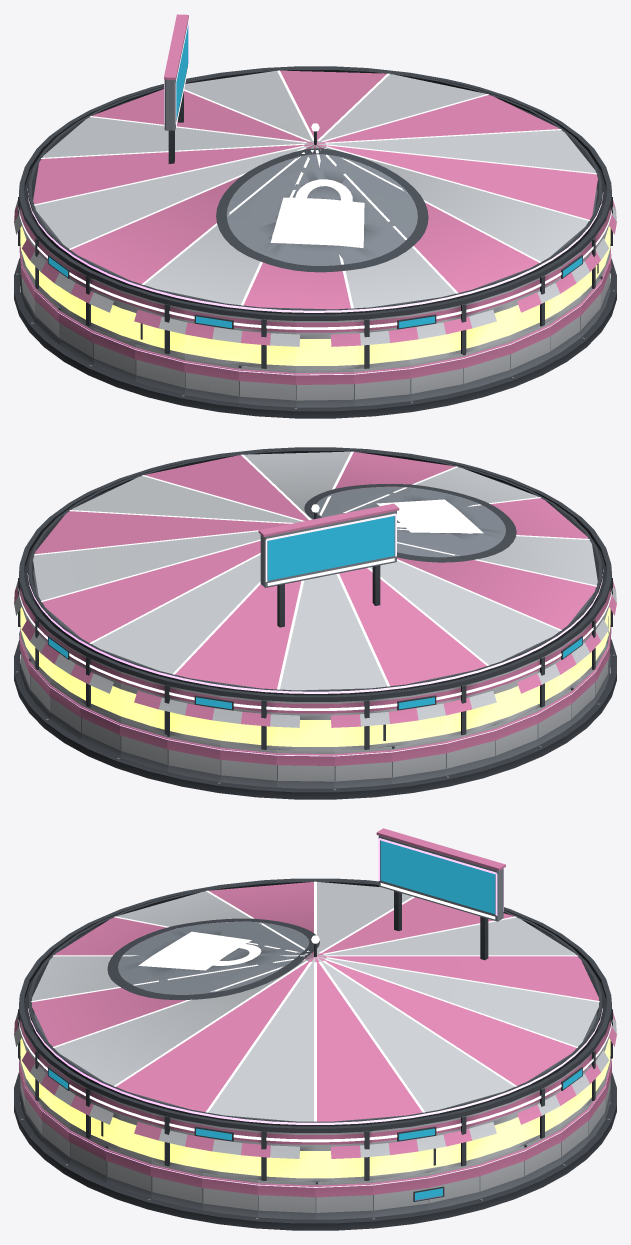
File: retail_l.glb
The picture shows the model from 3 angles, top to bottom: view 1: azimuth 30°, elevation 25°; view 2: azimuth 150°, elevation 25°; view 3: azimuth 270°, elevation 25°; orthographic projection.
Parts seen in each view (by area): view 1: Roof, PorchTop, Base, Upper_21, Wall_21, Wall_20, Wall_22, Upper_20, Wall_19, Wall_23, Upper_22, Wall_18 (+17 smaller); view 2: Roof, PorchTop, Base, Upper_10, Wall_10, Wall_11, Wall_09, Wall_12, Upper_11, Wall_08, Upper_09, Wall_13 (+18 smaller); view 3: Roof, PorchTop, Base, Upper_00, Upper_31, Wall_00, Wall_31, Wall_30, Wall_01, Wall_29, Upper_03, Upper_28 (+19 smaller).
Part boxes in pixels (x1,y1,x2,y2): Roof: (14,14,616,346); PorchTop: (18,21,612,329); Base: (14,258,616,418); Upper_21: (296,320,353,369); Wall_21: (296,368,354,407); Wall_20: (238,365,296,407); Wall_22: (354,363,410,406); Upper_20: (239,316,296,369); Wall_19: (184,357,238,403); Wall_23: (410,354,463,400); Upper_22: (354,314,410,368); Wall_18: (135,344,184,394); Roof: (14,447,616,727); PorchTop: (18,451,612,710); Base: (14,639,616,799); Upper_10: (277,701,334,750); Wall_10: (276,749,334,788); Wall_11: (334,746,392,788); Wall_09: (220,744,276,787); Wall_12: (392,738,446,784); Upper_11: (334,697,391,750); Wall_08: (167,735,220,781); Upper_09: (220,695,276,749); Wall_13: (446,725,495,775); Roof: (14,828,616,1158); PorchTop: (18,838,612,1142); Base: (14,1072,616,1230); Upper_00: (315,1131,372,1182); Upper_31: (258,1131,315,1182); Wall_00: (315,1179,373,1219); Wall_31: (257,1179,315,1219); Wall_30: (202,1172,257,1217); Wall_01: (373,1172,428,1217); Wall_29: (150,1161,202,1209); Upper_03: (479,1097,523,1161); Upper_28: (107,1097,151,1161).
Bounding box in the file's own units: 18.96 × 7.55 × 18.96.
